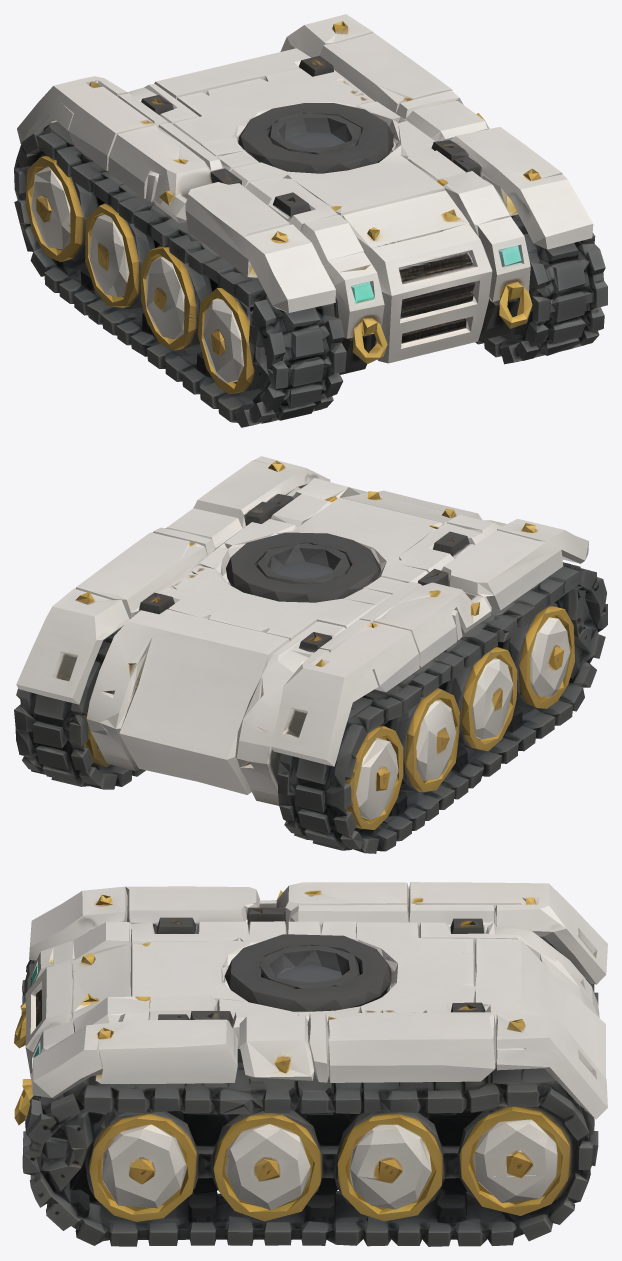
The model's file is heavy_tracks.glb.
3 views of the same model, one above another, from view 1: azimuth 30°, elevation 25°; view 2: azimuth 150°, elevation 25°; view 3: azimuth 270°, elevation 25° (orthographic). The views are drawn at different scales.
Visible parts, largest first — view 1: model; view 2: model; view 3: model.
Boxes of the visible parts, <box> form: model: <box>14,14,607,427</box>; model: <box>14,456,607,853</box>; model: <box>14,882,607,1246</box>.
Size of the model in its own units: 1.38 by 0.7349 by 1.9.
Materials: 1 (1 with a texture image).
